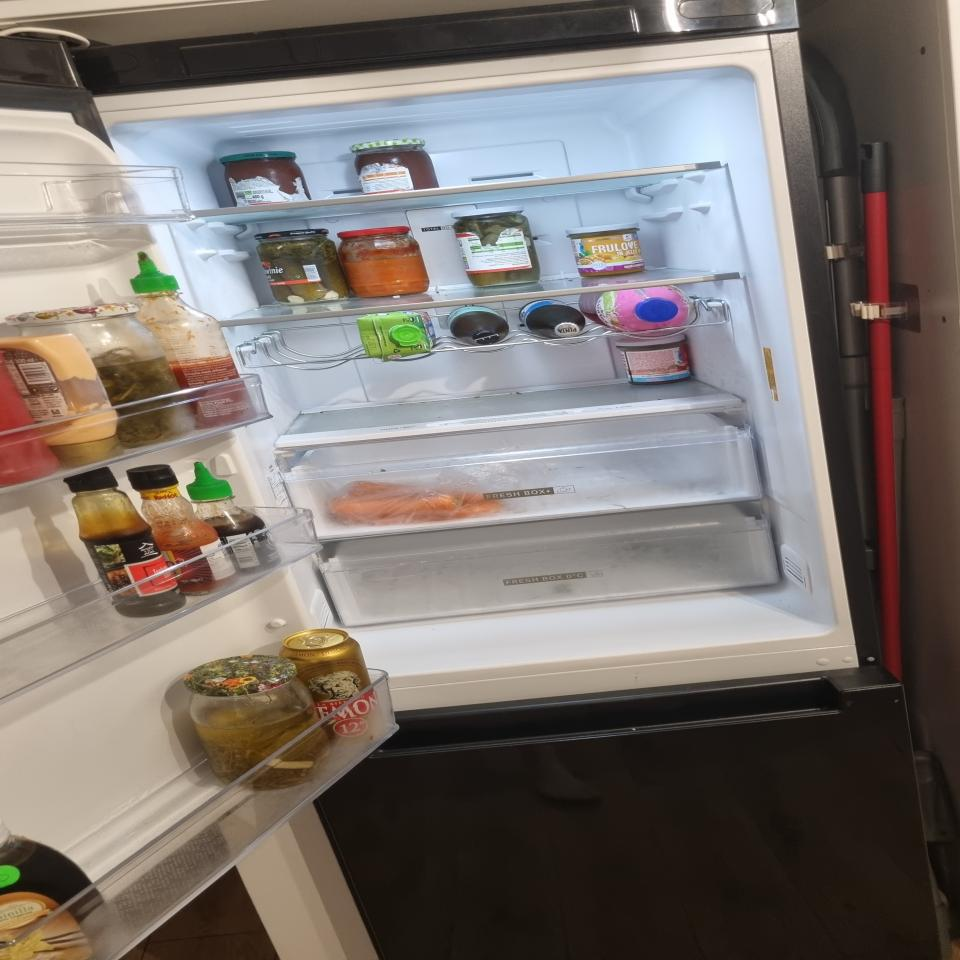Zanahoria: (331, 479, 500, 525)
